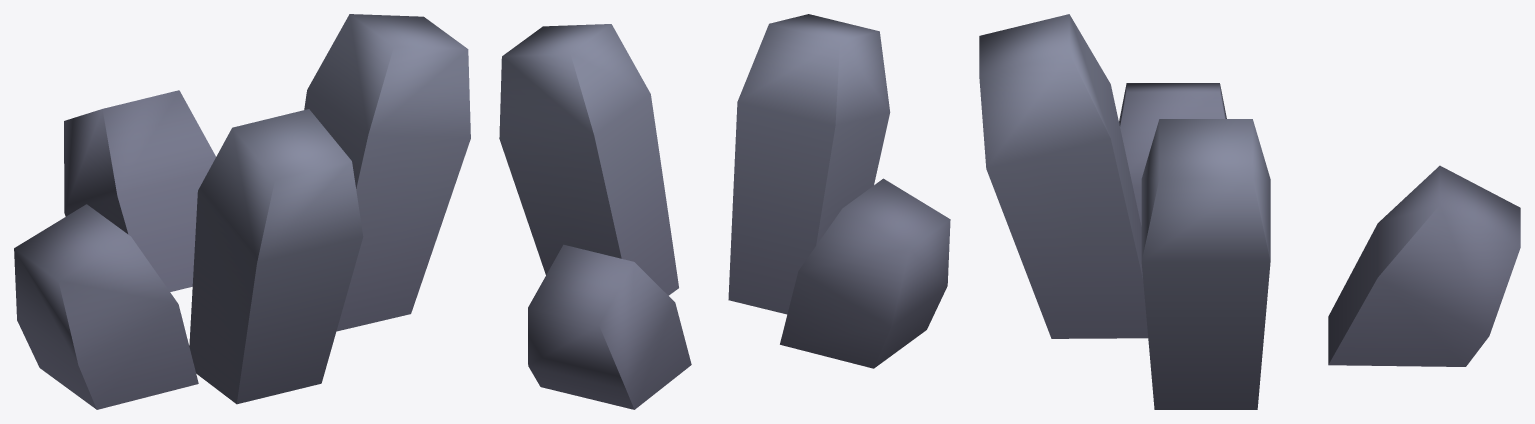
Rendered from grass.fbx.
3 renders of one model, left to right at view 1: azimuth 30°, elevation 25°; view 2: azimuth 150°, elevation 25°; view 3: azimuth 270°, elevation 25°, orthographic. The views are drawn at different scales.
Visible parts, largest first — view 1: grass; view 2: grass; view 3: grass.
Boxes of the visible parts, <box> form: grass: <box>14,14,470,409</box>; grass: <box>499,14,950,409</box>; grass: <box>979,14,1520,409</box>.
Size of the model in its own units: 51.87 by 31.39 by 54.37.
